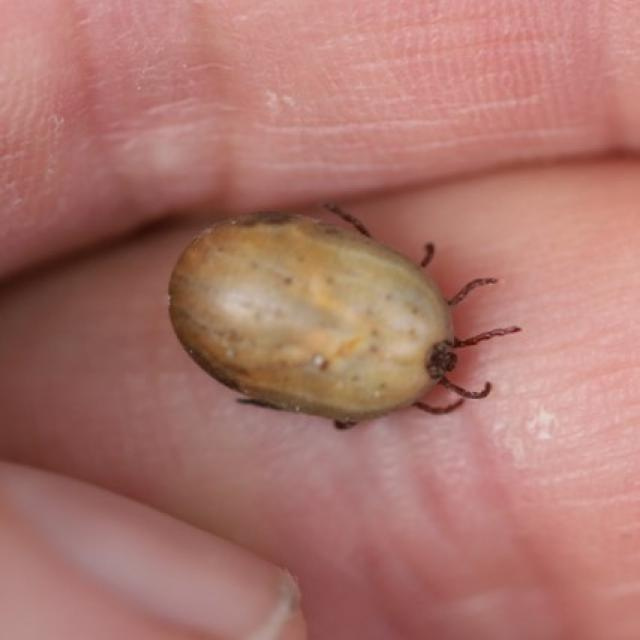Dermacentor Reticulatus-F-Fed: (168, 202, 520, 429)
